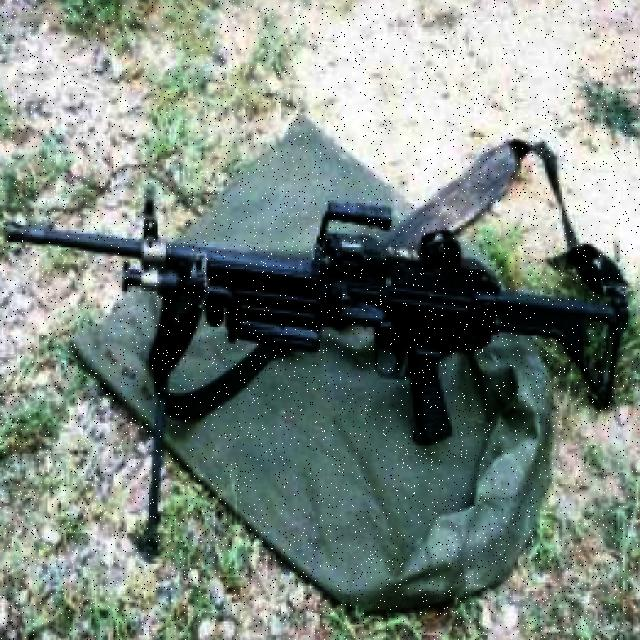Rifle: (3, 186, 631, 566)
